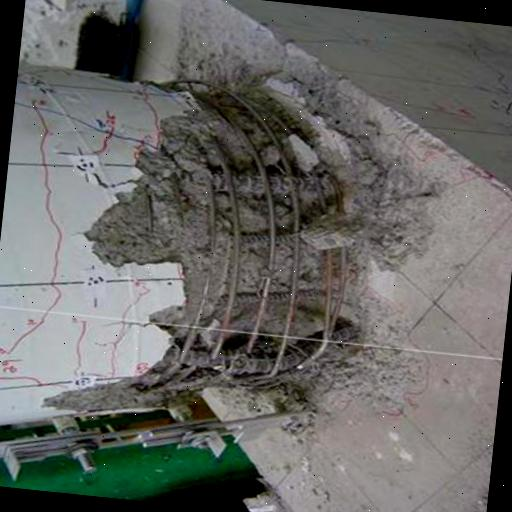spalling: (42, 91, 360, 412)
